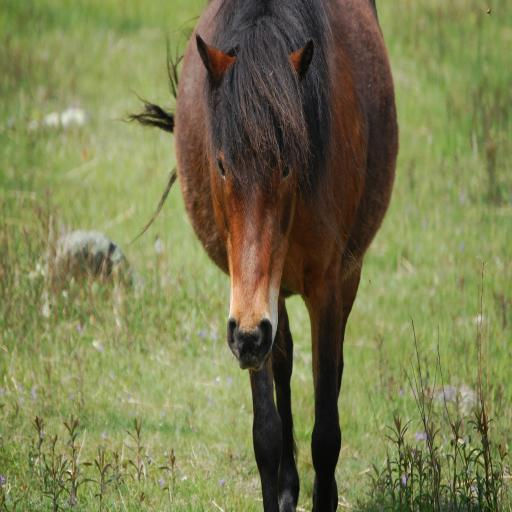horse: (122, 2, 402, 512)
